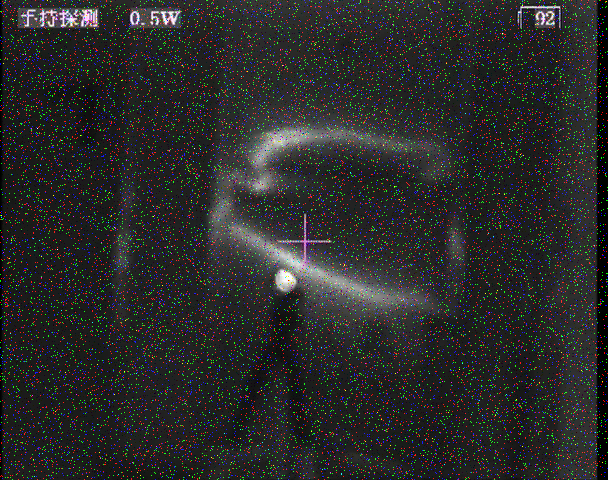my: (273, 268, 300, 294)
